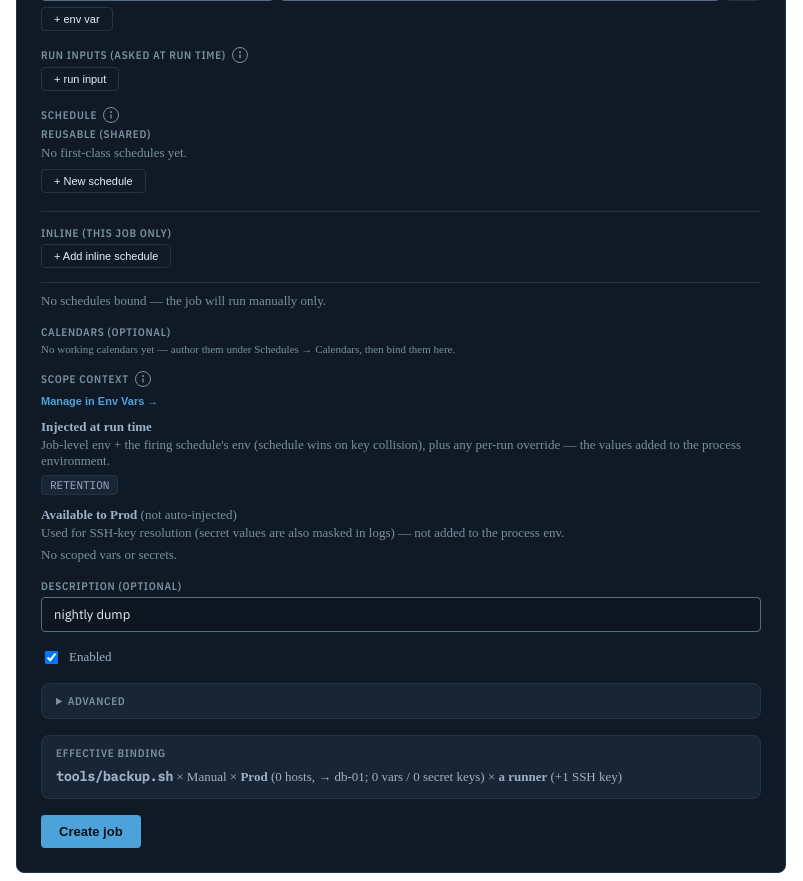
JobComposer — ?cloneFrom= (clone into create mode) › POSTs a new job with the copied settings and never PUTs the original
This screenshot has width=803, height=881.
(page scrolled)
Click the button "Create job": click(91, 832) [41,815,141,848]
(page scrolled)
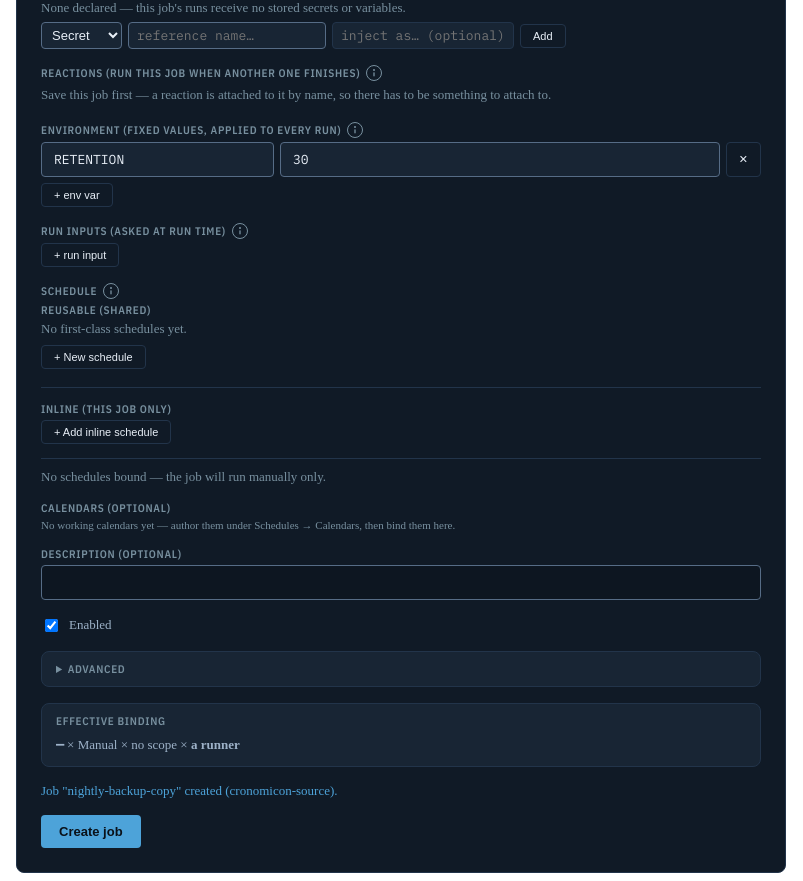
Now the text "Job \"nightly-backup-copy\" created (cronomicon-source)." is shown, box [41,783,338,798]
